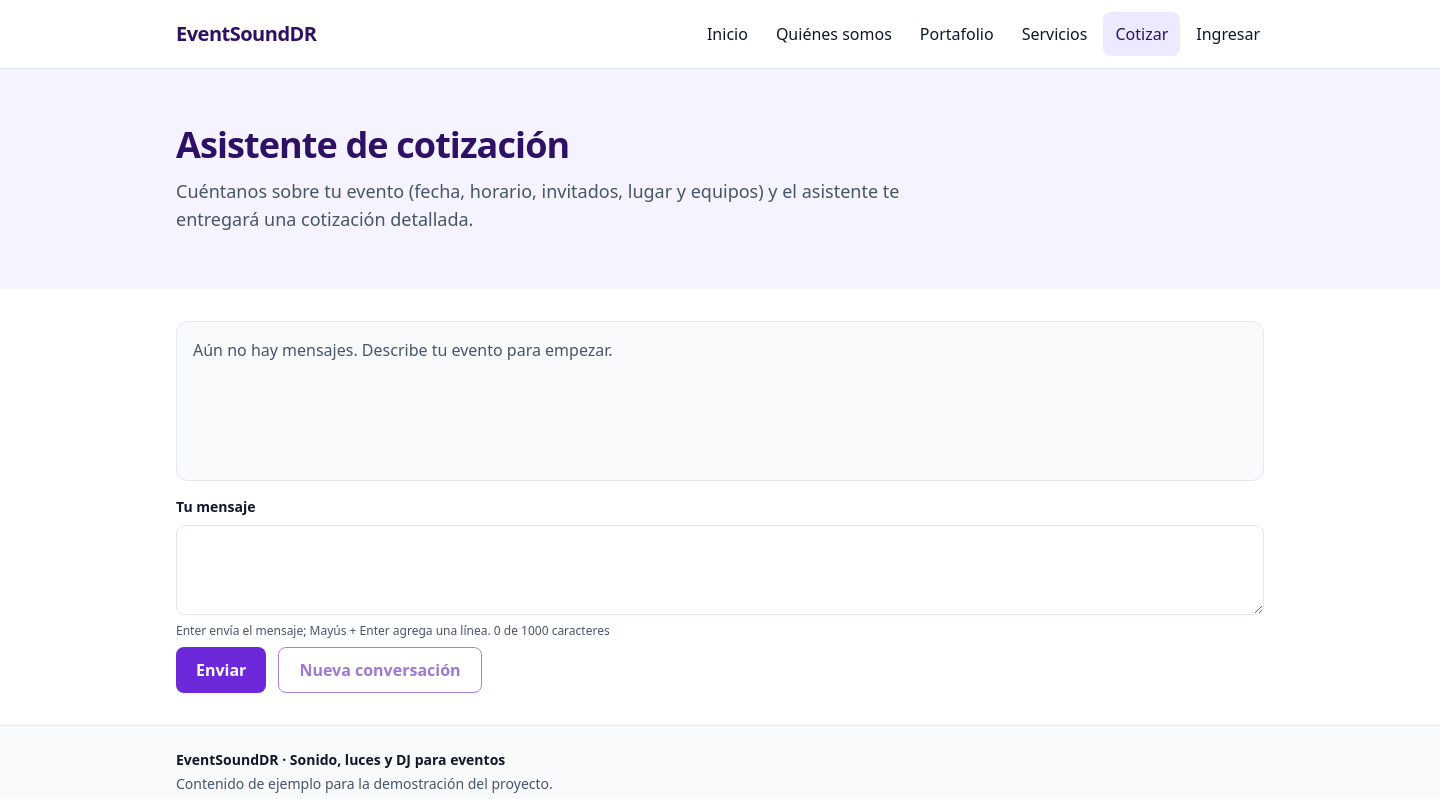
Scenario: chat page › never brings the welcome back over a conversation already started
The width and height of the screenshot is (1440, 799).
Step 1. Type "Uno" into the text box labelled "Tu mensaje" → [720, 570], box top-left (176, 525), bottom-right (1264, 615)
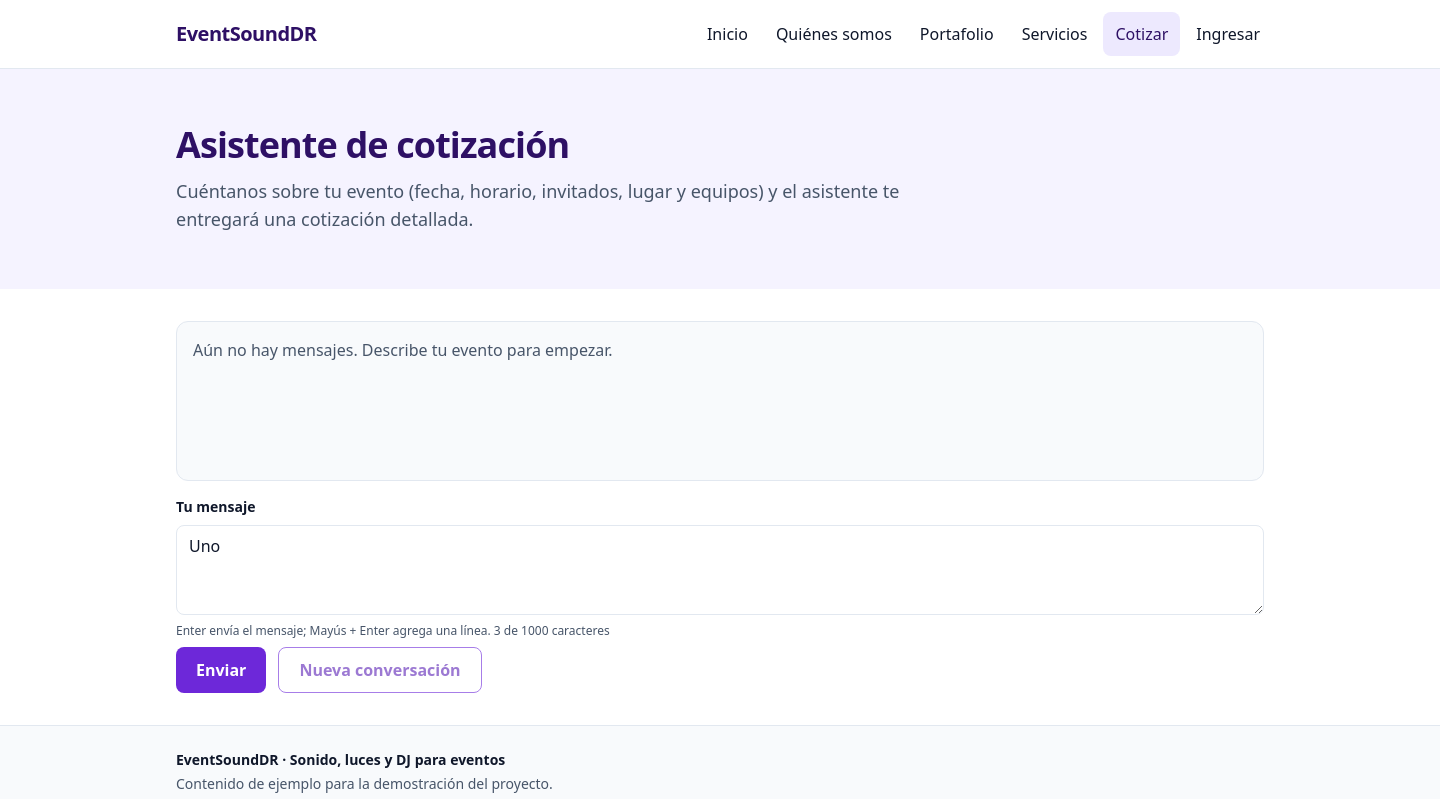
Step 2. Click the button "Enviar" → [221, 670], box top-left (176, 647), bottom-right (266, 693)
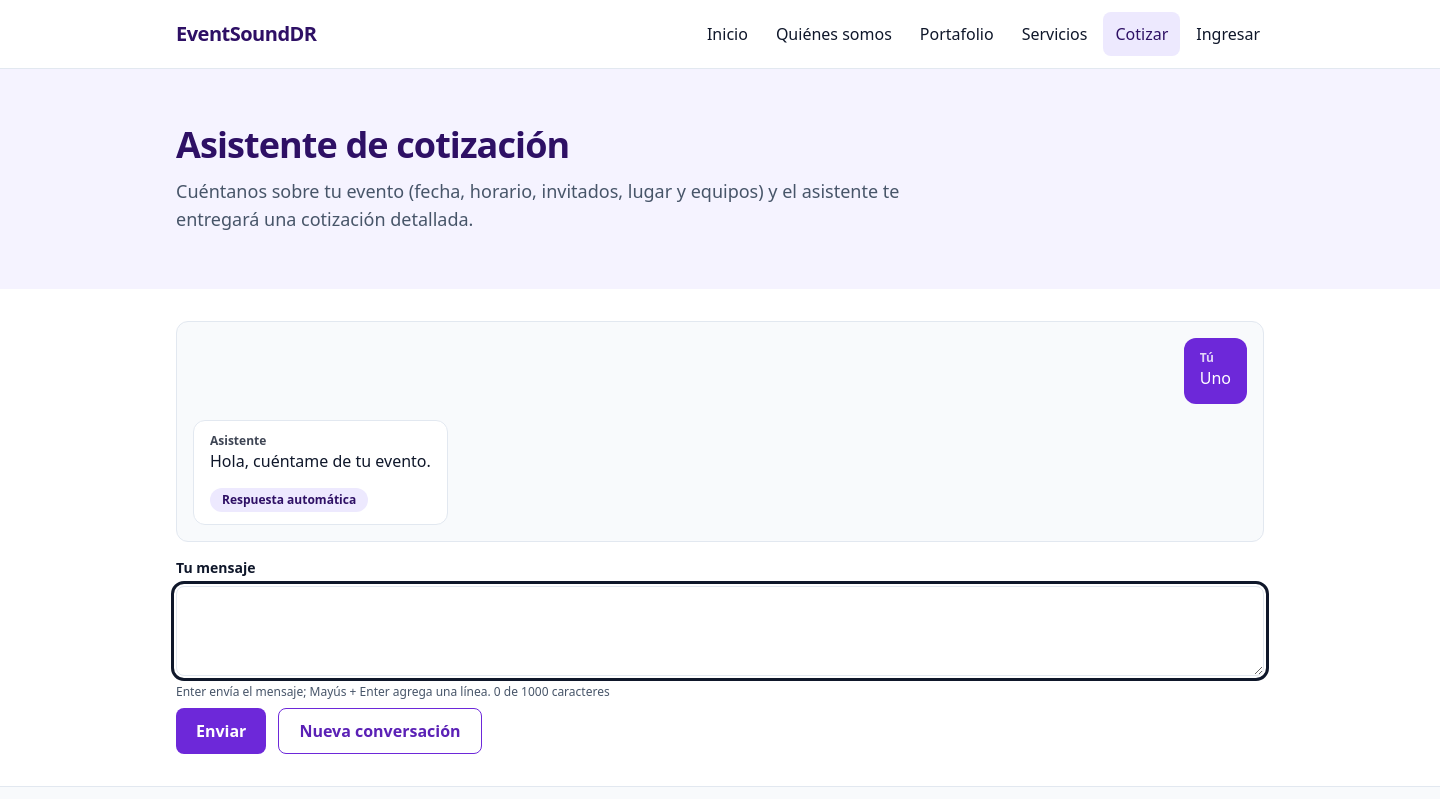
Now the text "Hola, cuéntame de tu evento." is shown, box top-left (210, 449), bottom-right (431, 474)
